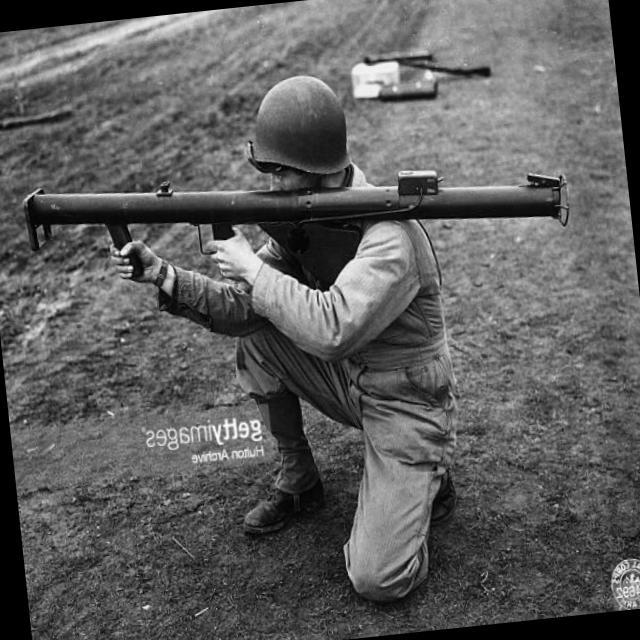rocket: (21, 127, 573, 277)
